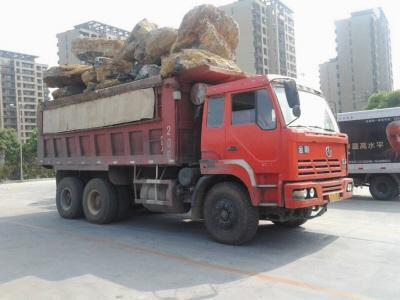chaozhai: (32, 4, 355, 253)
